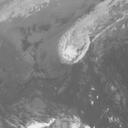cyclone: (58, 24, 91, 66)
